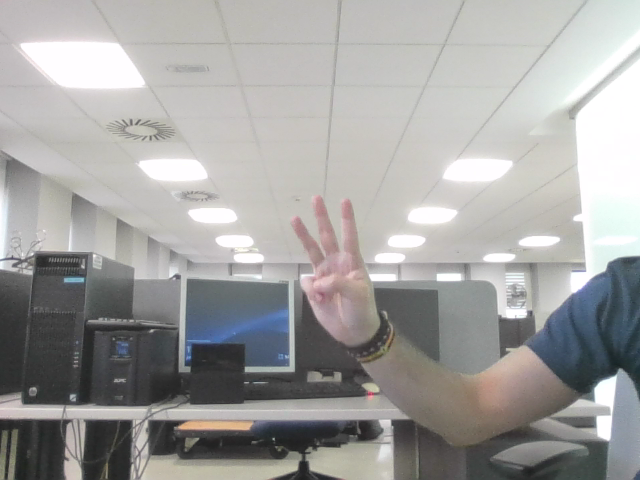3Dedos: (300, 207, 359, 308)
